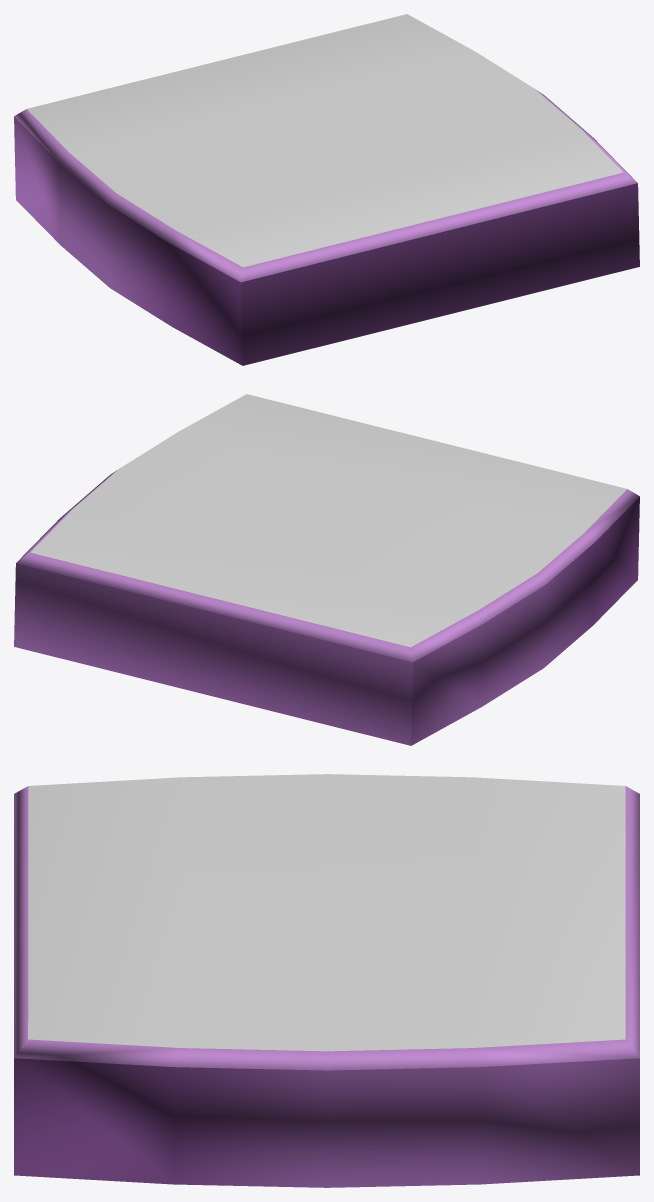
Rendered from StyleSign.fbx.
3 renders of one model, top to bottom at view 1: azimuth 30°, elevation 25°; view 2: azimuth 150°, elevation 25°; view 3: azimuth 270°, elevation 25°, orthographic. The views are drawn at different scales.
Visible parts, largest first — view 1: StyleSign; view 2: StyleSign; view 3: StyleSign.
Boxes of the visible parts, bbox=[...] form: StyleSign: bbox=[14, 14, 639, 365]; StyleSign: bbox=[14, 394, 639, 745]; StyleSign: bbox=[14, 774, 639, 1187].
Bounding box in the file's own units: 111 × 23.32 × 99.48.
